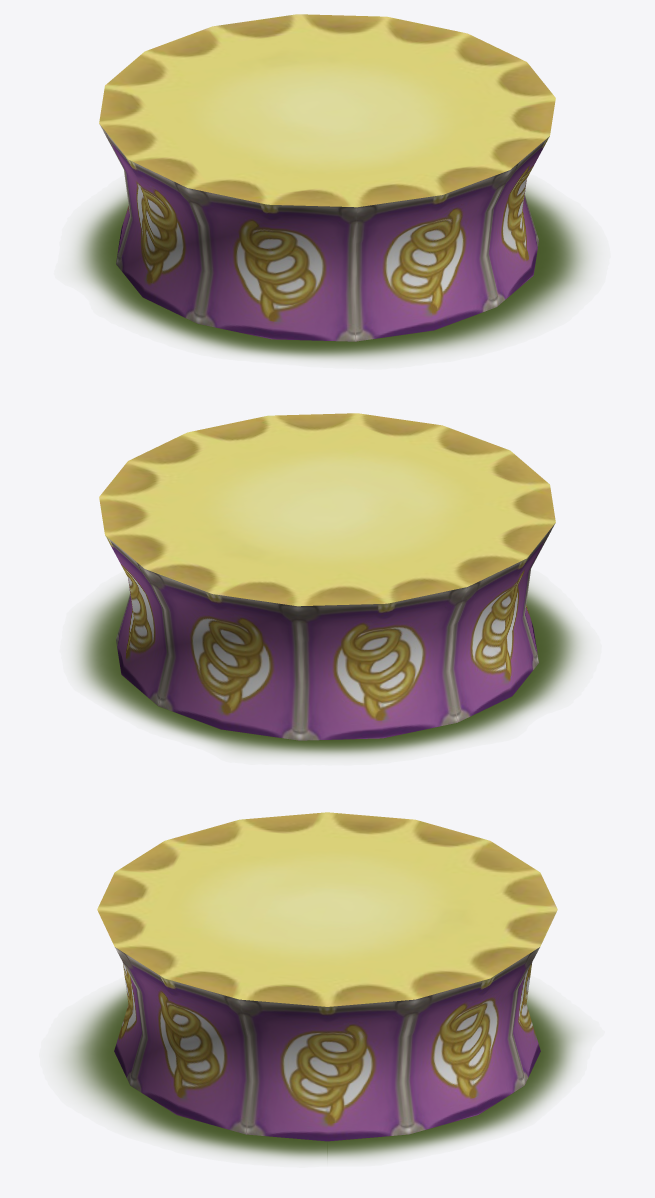
The model's file is trampoline.glb.
3 views of the same model, one above another, from view 1: azimuth 30°, elevation 25°; view 2: azimuth 150°, elevation 25°; view 3: azimuth 270°, elevation 25° (orthographic).
Parts seen in each view (by area): view 1: trampoline, trampoline_grp; view 2: trampoline, trampoline_grp; view 3: trampoline, trampoline_grp.
Part boxes in pixels (bbox=[...]): trampoline: bbox=[99, 14, 555, 341]; trampoline_grp: bbox=[76, 184, 589, 359]; trampoline: bbox=[99, 413, 555, 740]; trampoline_grp: bbox=[76, 582, 581, 756]; trampoline: bbox=[97, 812, 557, 1141]; trampoline_grp: bbox=[62, 986, 579, 1160].
Bounding box in the file's own units: 15.87 × 3.96 × 15.87.
Materials: 2 (2 with a texture image).
